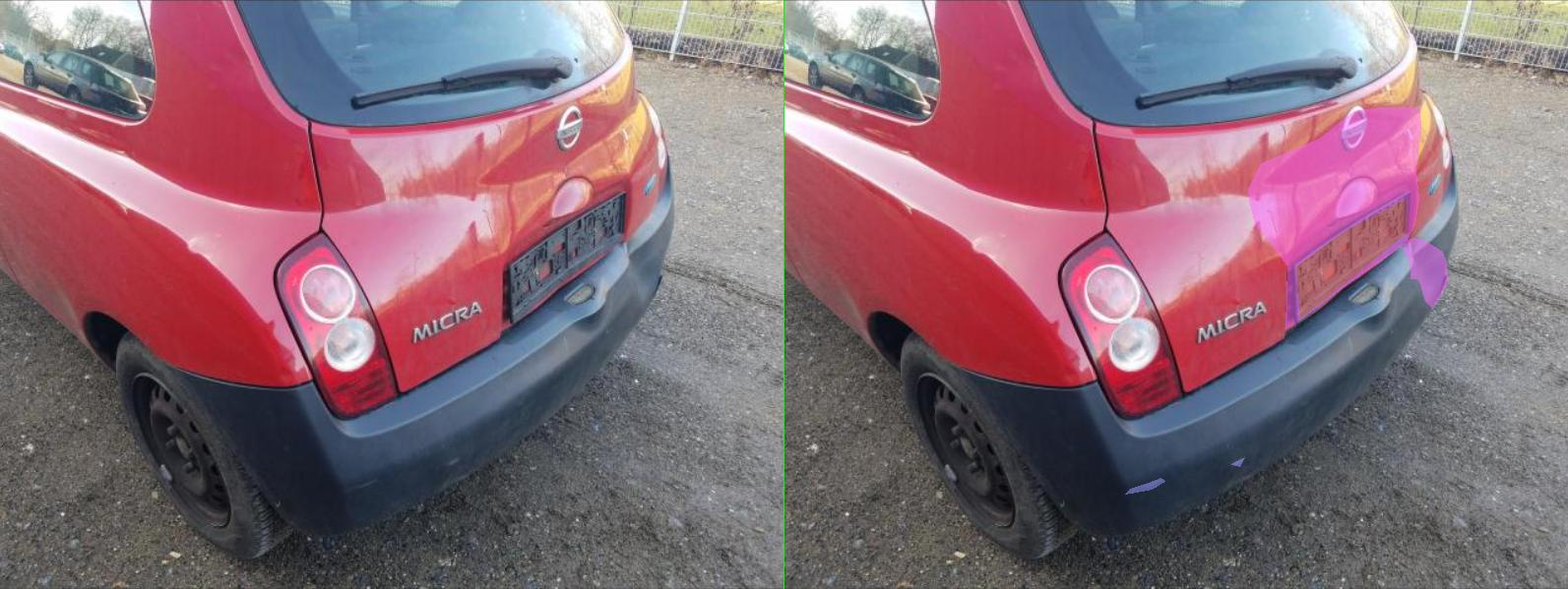Dent: (928, 107, 1273, 328), (1237, 238, 1328, 308)
Missing part: (1024, 199, 1243, 318)
Scratch: (682, 478, 760, 494), (894, 457, 920, 466)
